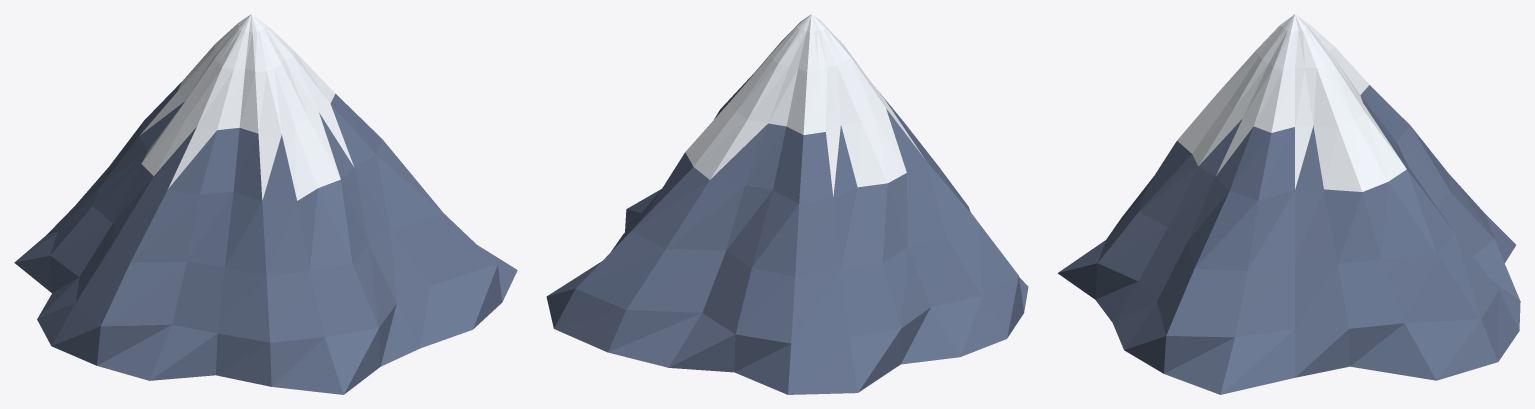
File: SpleefPeak.obj
The picture shows the model from 3 angles, left to right: view 1: azimuth 30°, elevation 25°; view 2: azimuth 150°, elevation 25°; view 3: azimuth 270°, elevation 25°; orthographic projection. The views are drawn at different scales.
Visible parts, largest first — view 1: Rock, Snow; view 2: Rock, Snow; view 3: Rock, Snow.
Boxes of the visible parts, x1=… form: Rock: x1=14, y1=82, x2=517, y2=394; Snow: x1=139, y1=14, x2=353, y2=200; Rock: x1=546, y1=74, x2=1028, y2=394; Snow: x1=685, y1=14, x2=925, y2=196; Rock: x1=1058, y1=85, x2=1520, y2=394; Snow: x1=1177, y1=14, x2=1406, y2=191.
Size of the model in its own units: 142 by 90 by 138.
